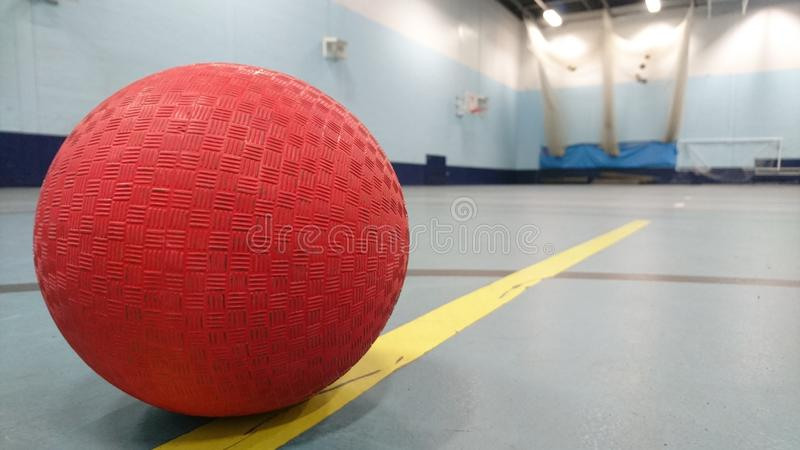red ball: (28, 60, 411, 421)
